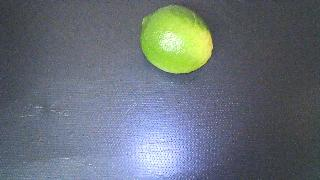EXPORTACION: (140, 5, 213, 74)
